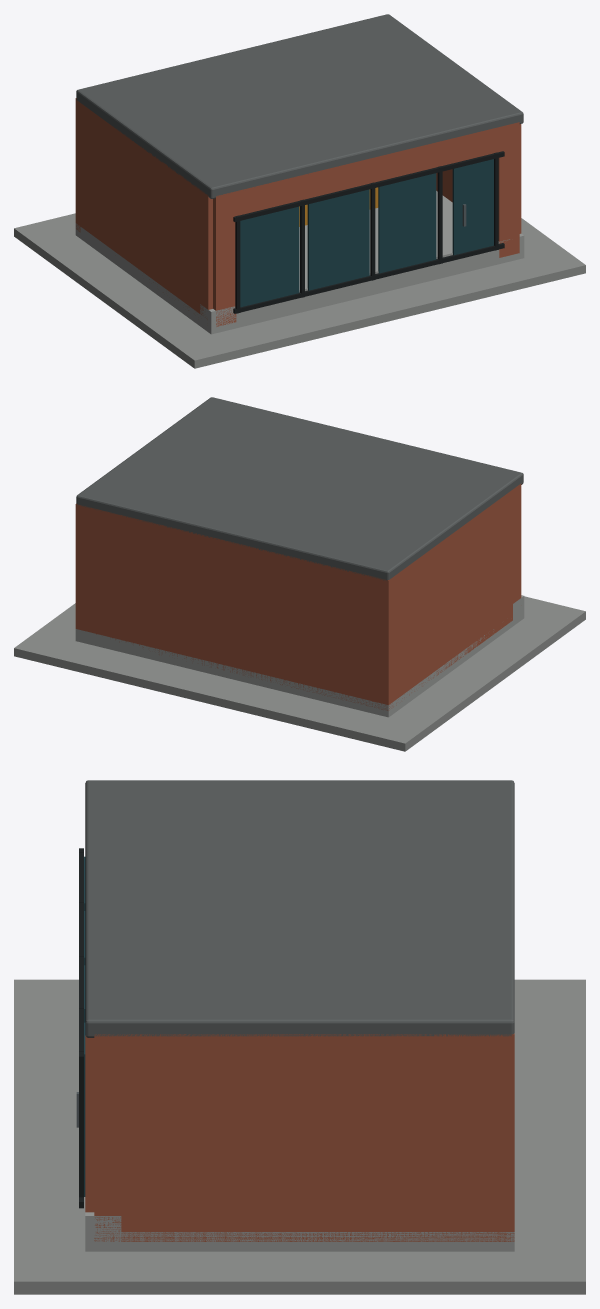
The model's file is CafeStage 5.glb.
3 renders of one model, top to bottom at view 1: azimuth 30°, elevation 25°; view 2: azimuth 150°, elevation 25°; view 3: azimuth 270°, elevation 25°, orthographic. The views are drawn at different scales.
Visible parts, largest first — view 1: FlatRoof.001, CafeWalls.001, TileBase_10x8.004, StorefrontGlass, CafeFoundation.003, StorefrontFrames; view 2: CafeWalls.001, FlatRoof.001, TileBase_10x8.004, CafeFoundation.003; view 3: FlatRoof.001, CafeWalls.001, TileBase_10x8.004, CafeFoundation.003, StorefrontFrames, StorefrontGlass.
Part boxes in pixels (x1,y1,x2,y2): FlatRoof.001: (76, 14, 523, 198); CafeWalls.001: (75, 98, 521, 326); TileBase_10x8.004: (14, 213, 585, 368); StorefrontGlass: (240, 159, 493, 307); CafeFoundation.003: (75, 191, 524, 334); StorefrontFrames: (233, 151, 504, 313); CafeWalls.001: (75, 483, 521, 710); FlatRoof.001: (76, 397, 523, 580); TileBase_10x8.004: (14, 596, 585, 751); CafeFoundation.003: (75, 595, 524, 717); FlatRoof.001: (85, 780, 514, 1037); CafeWalls.001: (85, 1033, 514, 1241); TileBase_10x8.004: (14, 979, 585, 1294); CafeFoundation.003: (85, 1212, 514, 1251); StorefrontFrames: (79, 848, 83, 1208); StorefrontGlass: (84, 856, 85, 1196).
Bounding box in the file's own units: 10 × 3.76 × 8.
